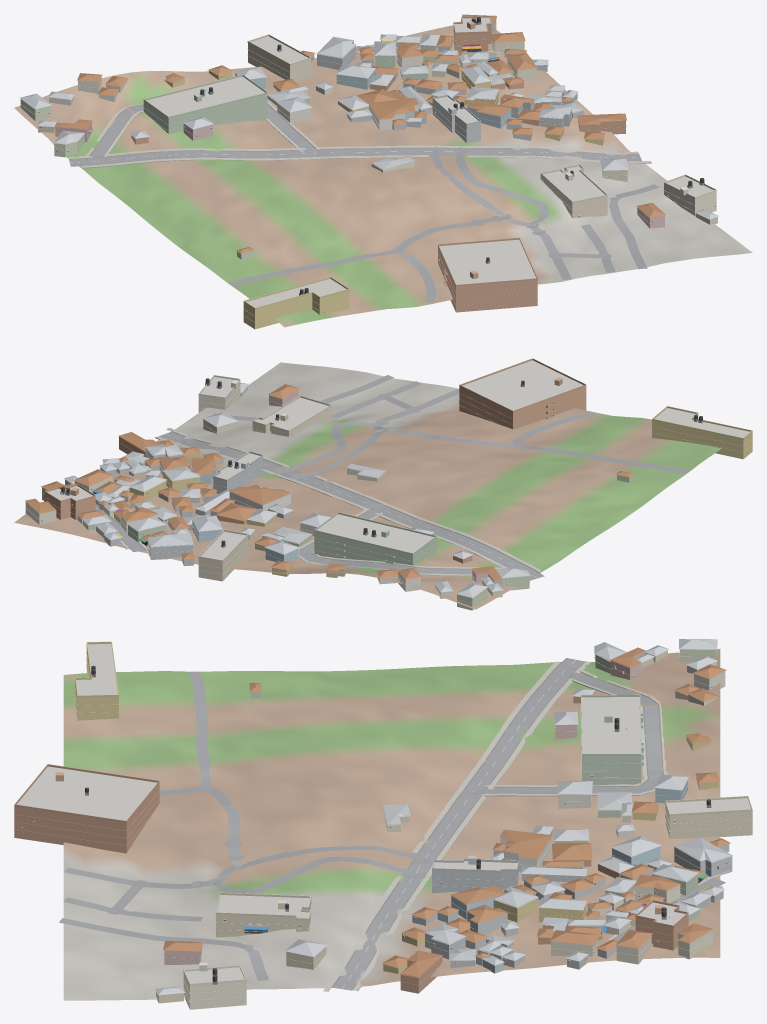
The picture shows the model from 3 angles, top to bottom: view 1: azimuth 30°, elevation 25°; view 2: azimuth 150°, elevation 25°; view 3: azimuth 270°, elevation 25°; orthographic projection. The views are drawn at different scales.
Visible parts, largest first — view 1: Terrain-col, Buildings-col, Roads-col, Details, Sidewalks-col; view 2: Terrain-col, Buildings-col, Roads-col, Details, Sidewalks-col; view 3: Terrain-col, Buildings-col, Roads-col, Details, Sidewalks-col.
Boxes of the visible parts, x1=… form: Terrain-col: x1=14, y1=25, x2=752, y2=327; Buildings-col: x1=19, y1=14, x2=718, y2=329; Roads-col: x1=69, y1=46, x2=659, y2=302; Details: x1=20, y1=15, x2=716, y2=322; Sidewalks-col: x1=68, y1=45, x2=651, y2=168; Terrain-col: x1=14, y1=362, x2=721, y2=609; Buildings-col: x1=25, y1=360, x2=752, y2=610; Roads-col: x1=95, y1=375, x2=689, y2=580; Details: x1=25, y1=358, x2=752, y2=603; Sidewalks-col: x1=96, y1=427, x2=541, y2=575; Terrain-col: x1=63, y1=649, x2=720, y2=1000; Buildings-col: x1=14, y1=639, x2=752, y2=1009; Roads-col: x1=59, y1=658, x2=725, y2=990; Details: x1=14, y1=641, x2=752, y2=1003; Sidewalks-col: x1=323, y1=661, x2=731, y2=991.
Size of the model in its own units: 278 by 41.86 by 288.
